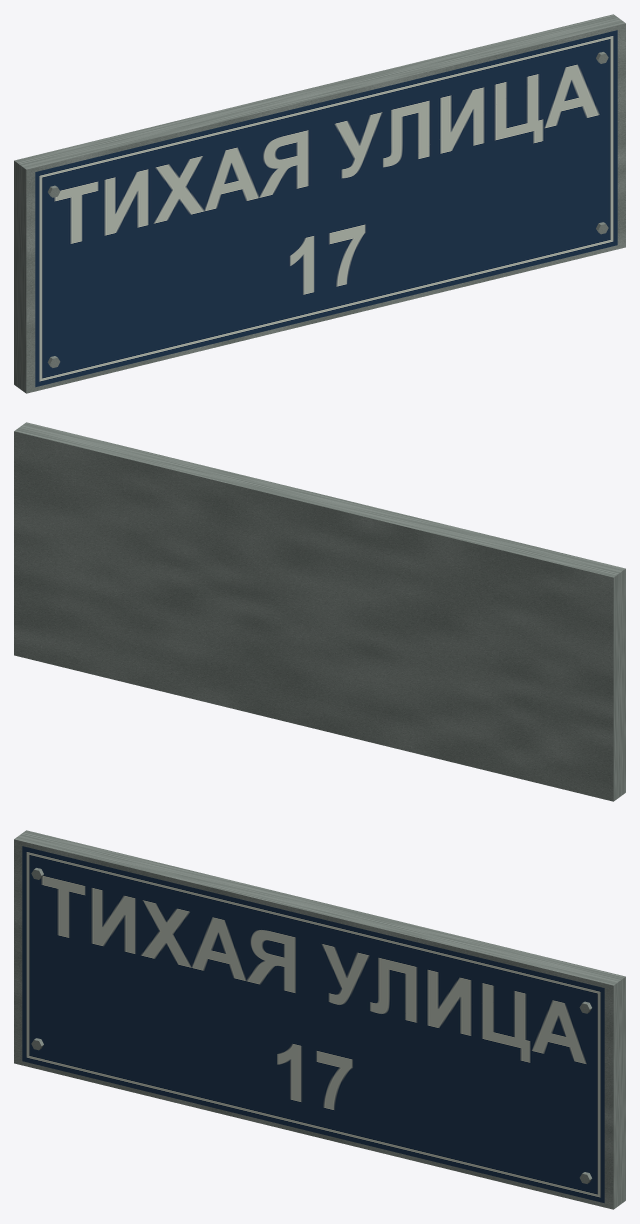
Rendered from CIS_EntrySign.glb.
The picture shows the model from 3 angles, top to bottom: view 1: azimuth 30°, elevation 25°; view 2: azimuth 150°, elevation 25°; view 3: azimuth 330°, elevation 25°; orthographic projection.
Parts seen in each view (by area): view 1: CIS_EntrySign; view 2: CIS_EntrySign; view 3: CIS_EntrySign.
Boxes of the visible parts, left/top/right/bottom form: CIS_EntrySign: left=14, top=14, right=625, bottom=393; CIS_EntrySign: left=14, top=422, right=625, bottom=801; CIS_EntrySign: left=14, top=830, right=625, bottom=1209.
Bounding box in the file's own units: 0.7 × 0.25 × 0.0315.
Materials: 2 (2 with a texture image).
